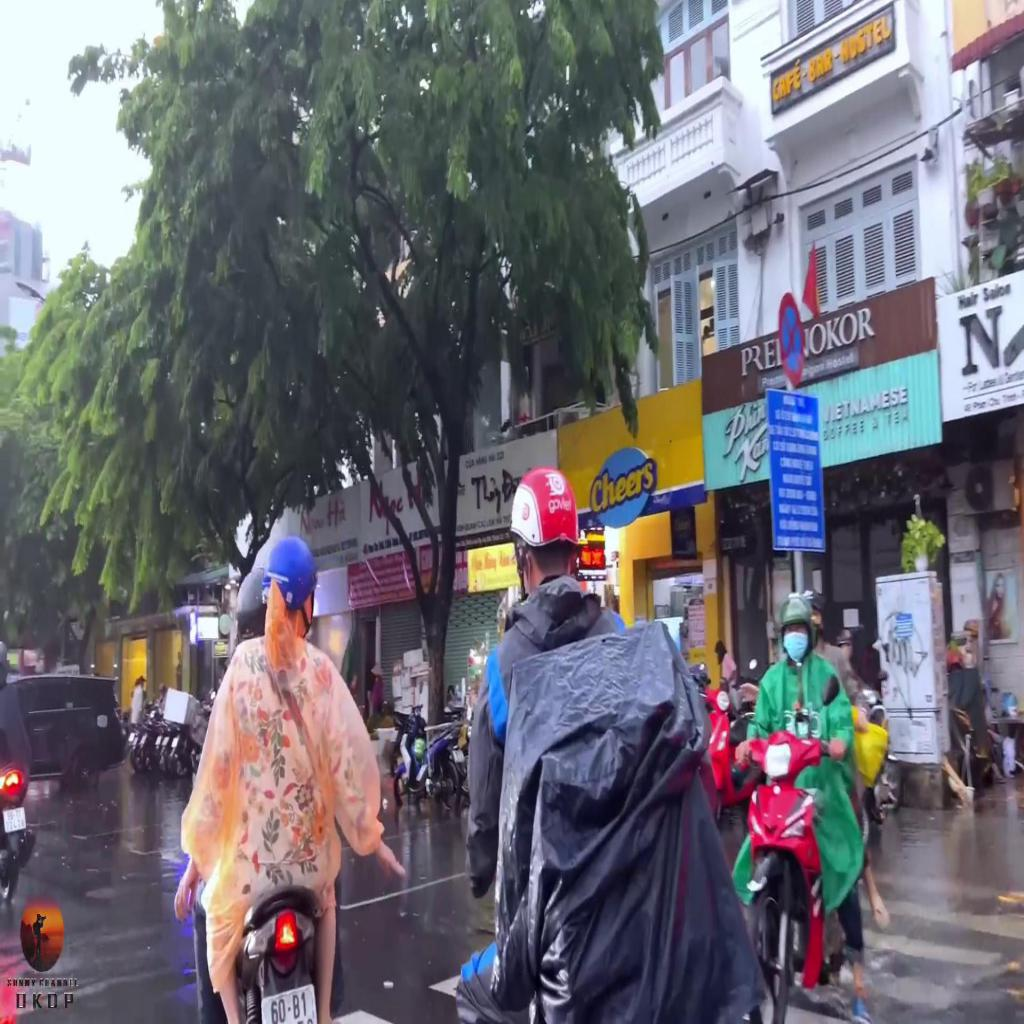cam_dung_xe_va_do_xe: (779, 294, 804, 383)
